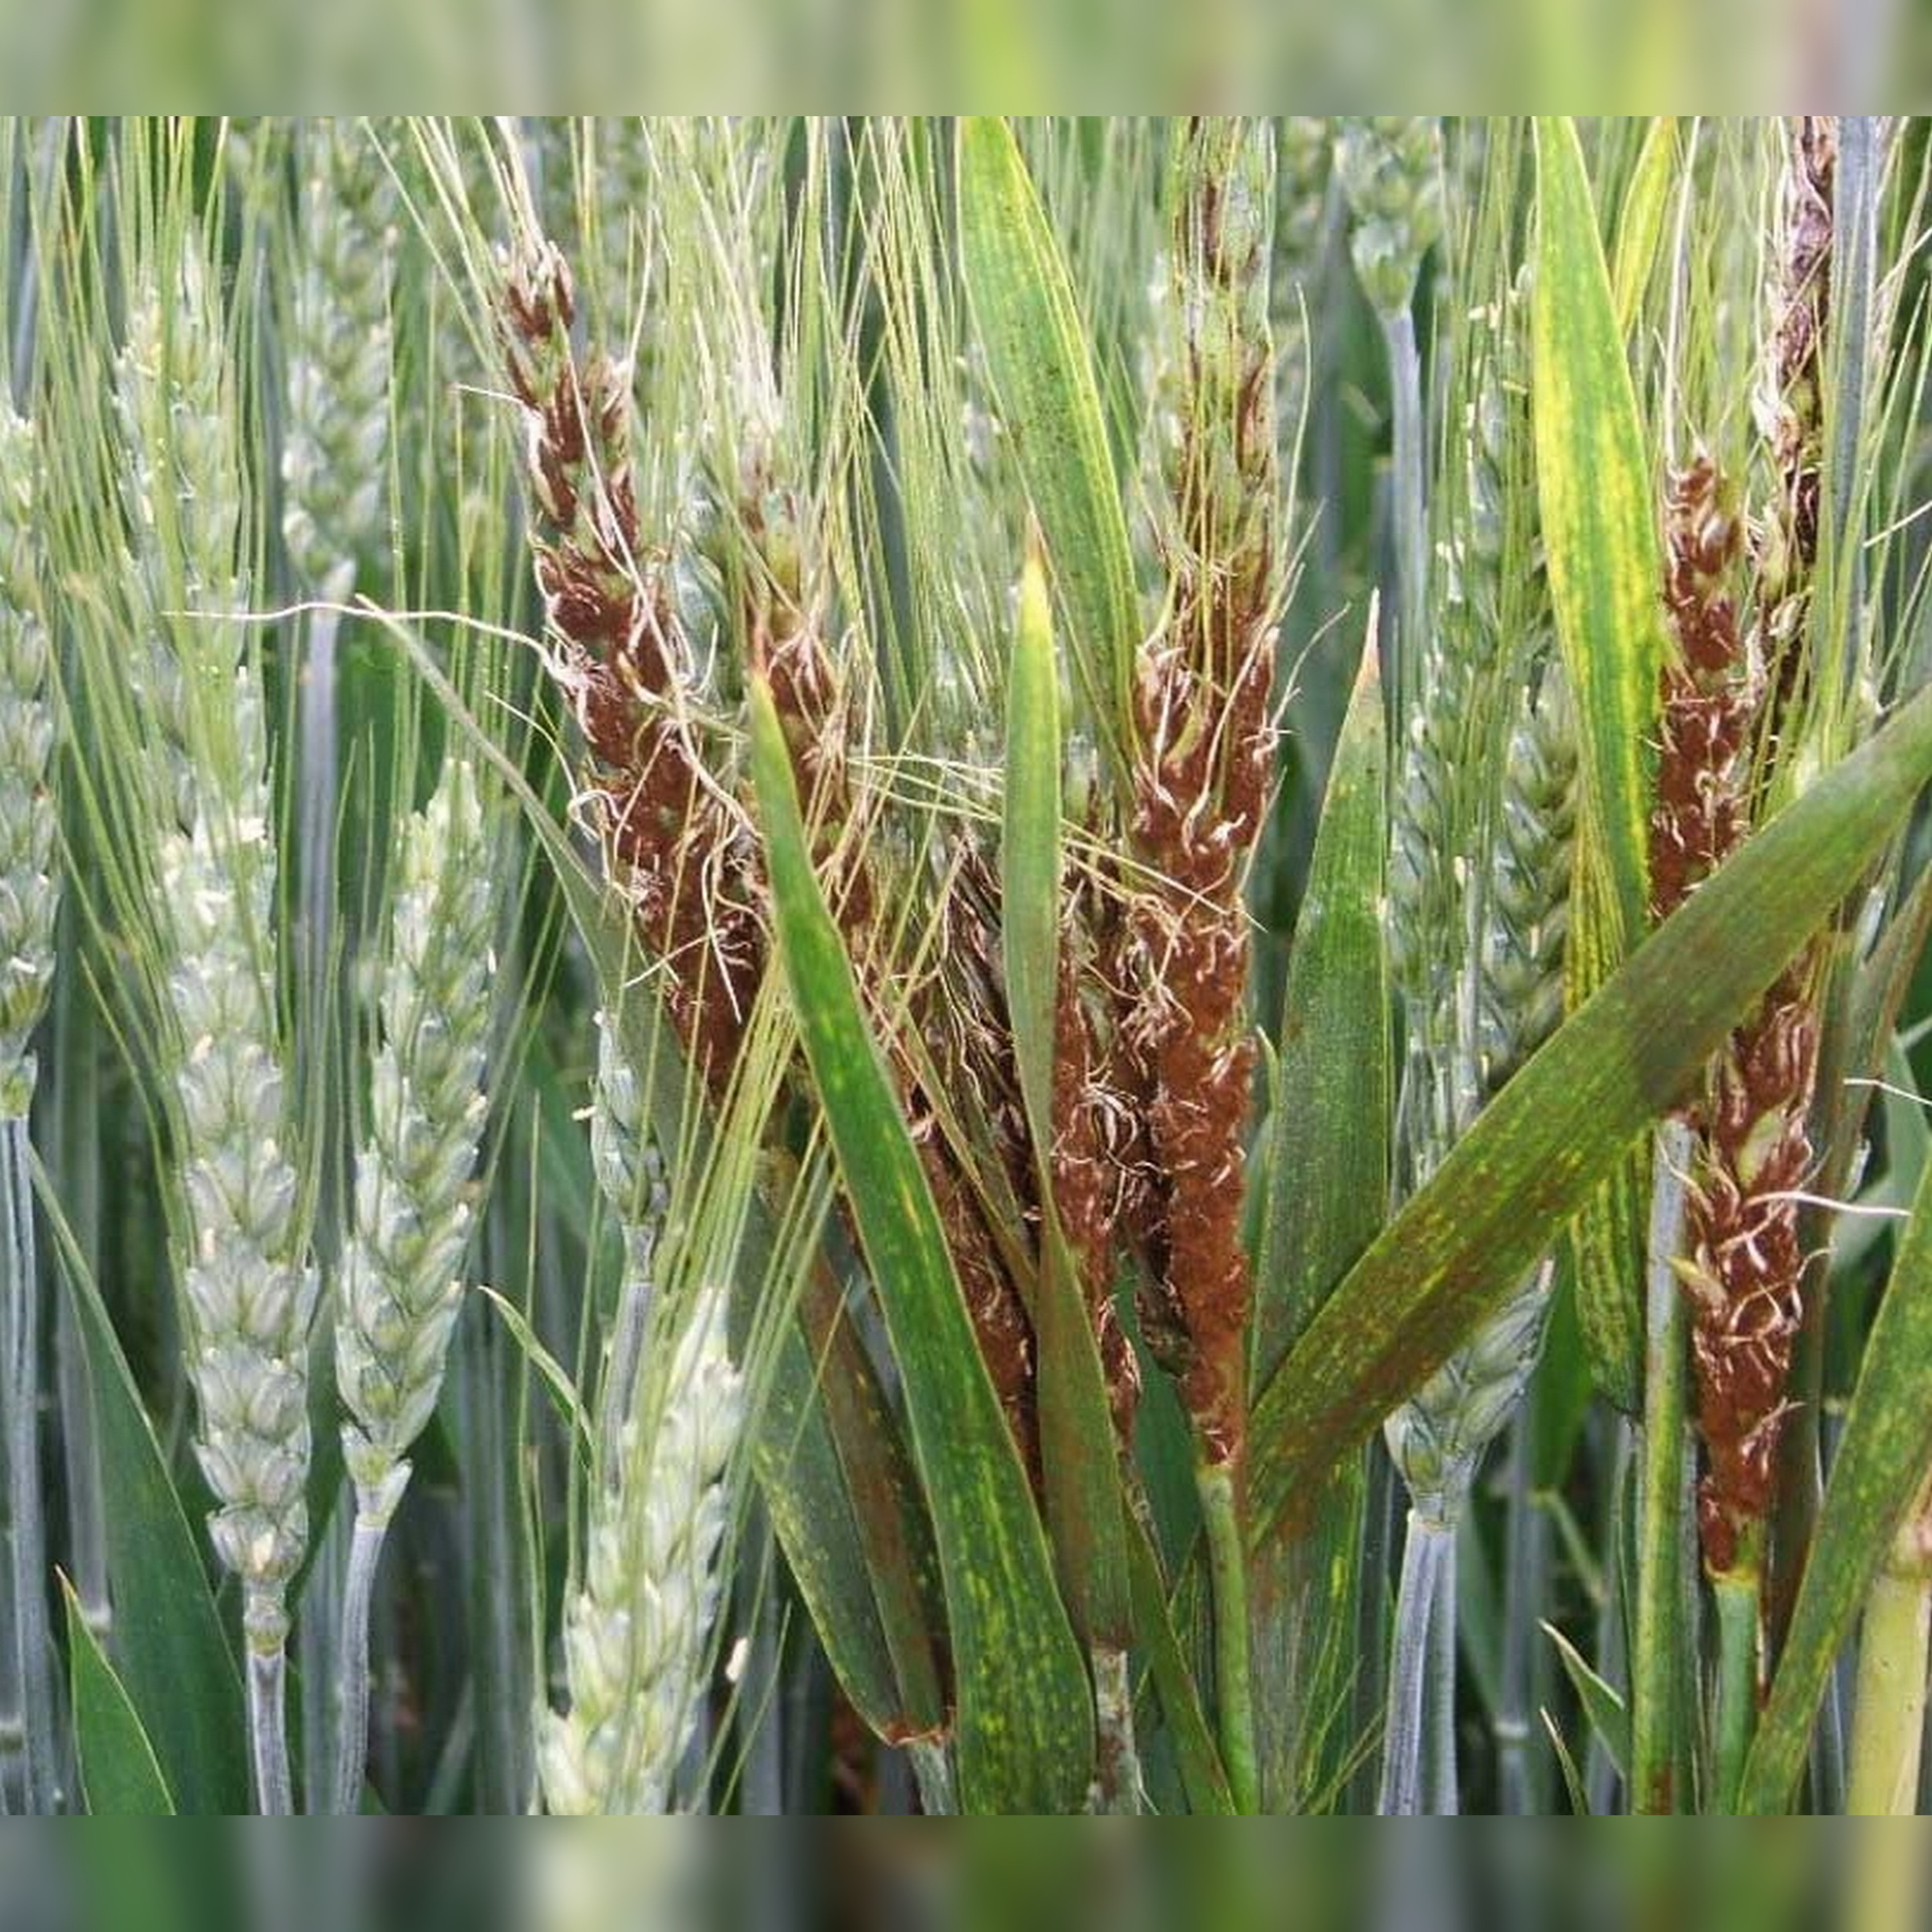Wheat Loose Smut: (1086, 596, 1357, 1454)
